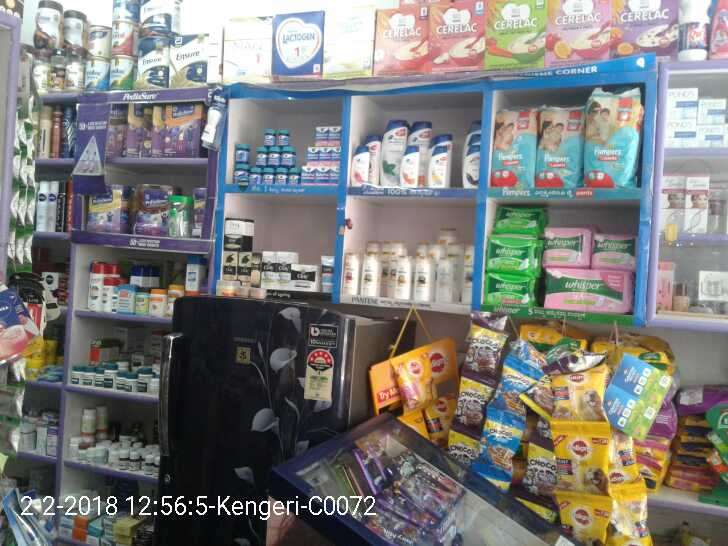beauty: (378, 114, 402, 192), (408, 254, 437, 306), (283, 262, 322, 300), (426, 143, 456, 192), (359, 243, 383, 303), (399, 143, 422, 192), (348, 142, 371, 187), (390, 252, 408, 298), (239, 249, 259, 290), (273, 246, 289, 292), (344, 249, 360, 294), (257, 249, 273, 289), (221, 251, 238, 280)
pharmacy: (579, 87, 640, 182), (534, 108, 583, 197), (489, 107, 536, 194), (549, 264, 626, 310), (540, 216, 588, 262), (490, 231, 539, 274), (489, 266, 530, 311), (590, 230, 641, 266), (249, 163, 299, 191), (303, 116, 344, 148), (251, 127, 298, 149), (300, 163, 342, 187), (494, 209, 543, 229), (253, 149, 297, 168), (231, 143, 246, 190), (306, 145, 345, 162)
